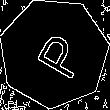P_NW: (23, 25, 85, 82)
